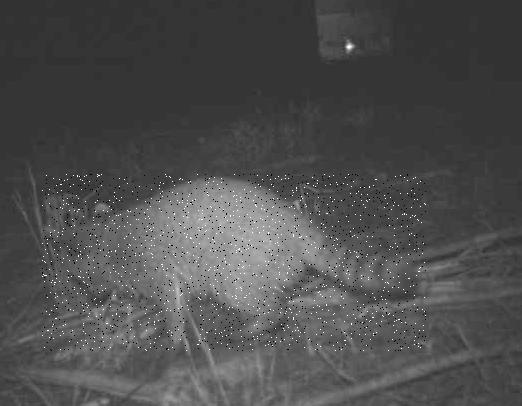Raccoon: (42, 175, 426, 352)
